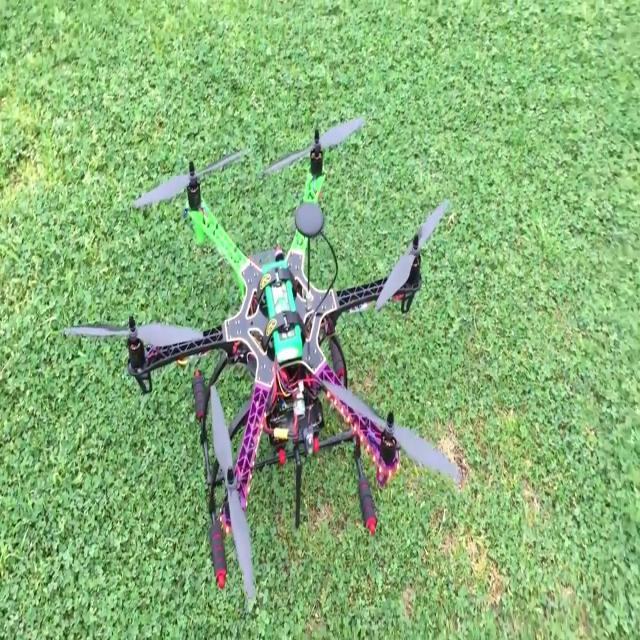drone: (79, 110, 496, 584)
